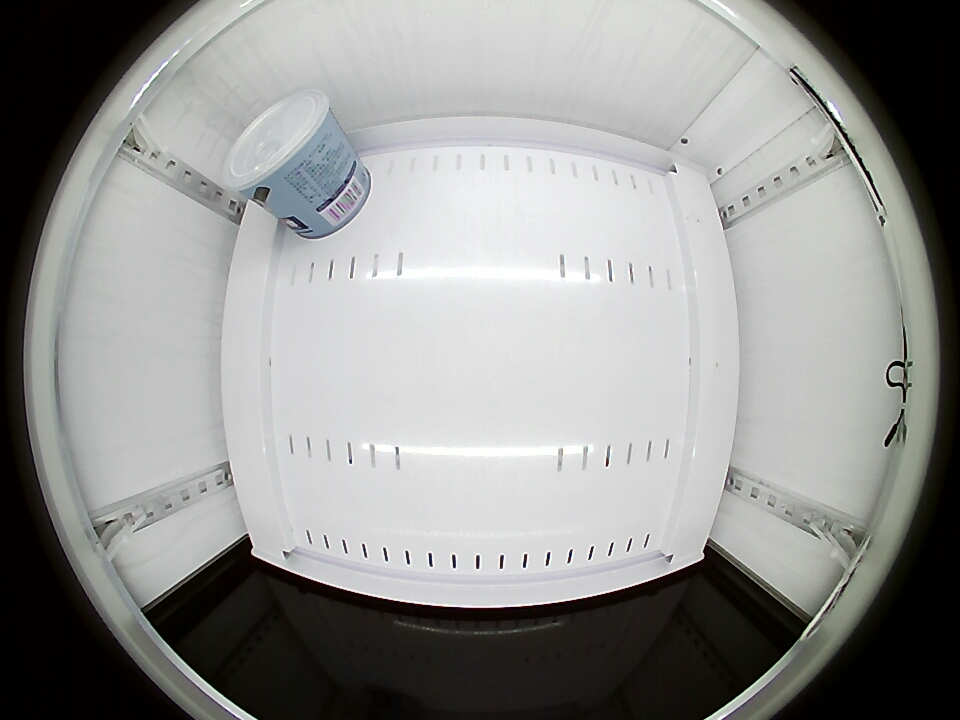haitai: (223, 89, 338, 202)
